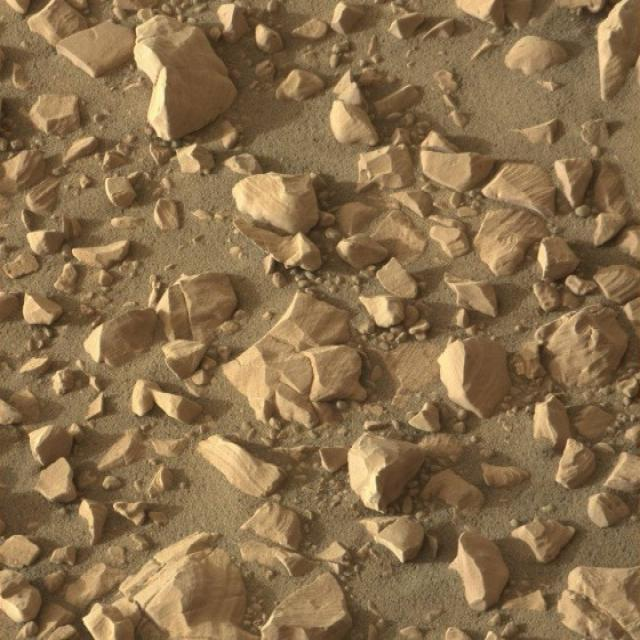mars-rocks: (223, 291, 350, 422), (120, 534, 255, 640), (536, 305, 630, 388), (147, 65, 237, 140), (133, 14, 228, 82), (438, 337, 512, 419), (261, 574, 352, 640), (349, 434, 425, 512), (156, 273, 238, 342), (197, 435, 285, 498), (232, 174, 319, 234), (475, 208, 548, 276), (450, 533, 510, 613), (56, 20, 135, 77), (83, 309, 157, 366), (599, 0, 640, 100), (483, 163, 557, 216), (303, 346, 368, 402), (421, 149, 497, 192), (371, 210, 428, 264), (241, 503, 303, 552), (512, 518, 577, 564), (357, 144, 415, 190), (506, 35, 568, 74), (330, 99, 380, 146), (375, 518, 425, 564), (28, 95, 80, 136), (275, 383, 320, 430), (556, 439, 597, 490), (534, 394, 572, 449), (33, 458, 77, 504), (336, 233, 389, 270), (28, 426, 72, 467), (360, 295, 405, 328), (280, 353, 313, 396), (589, 495, 632, 528), (0, 536, 40, 570)
